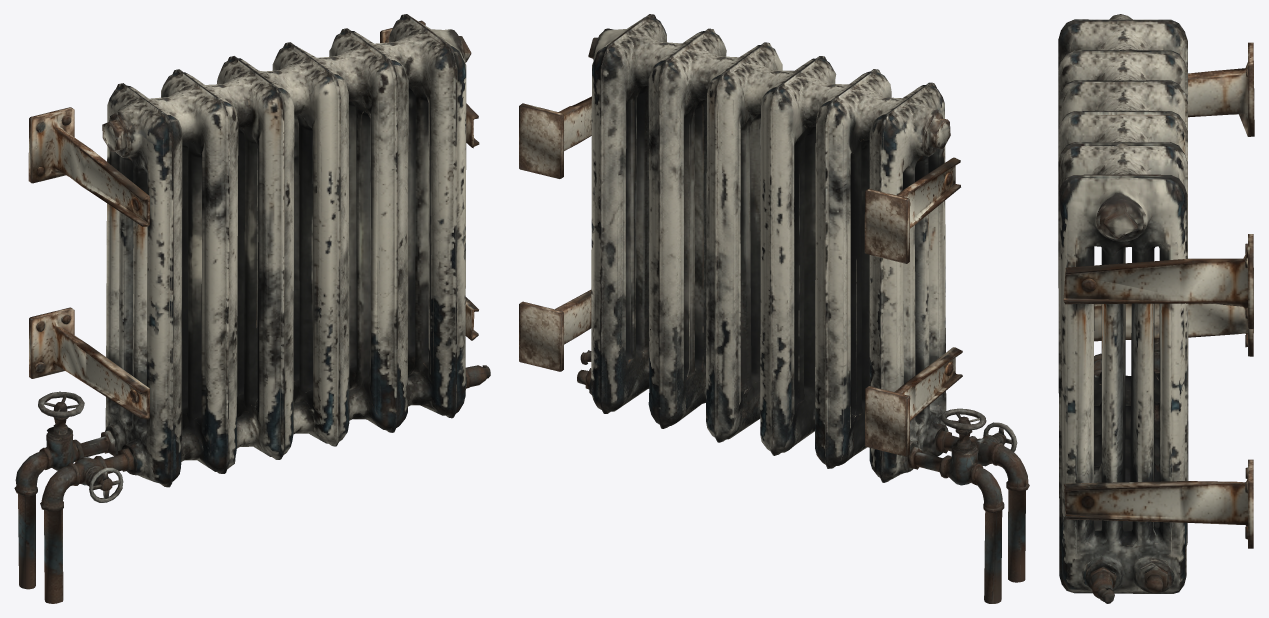
Rendered from silo81_radiator.glb.
3 renders of one model, left to right at view 1: azimuth 30°, elevation 25°; view 2: azimuth 150°, elevation 25°; view 3: azimuth 270°, elevation 25°, orthographic. The views are drawn at different scales.
Size of the model in its own units: 0.9443 by 0.9497 by 0.3184.
Materials: 1 (1 with a texture image).
